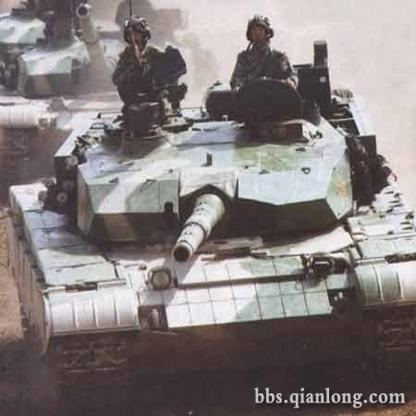Tank: (6, 85, 416, 383)
